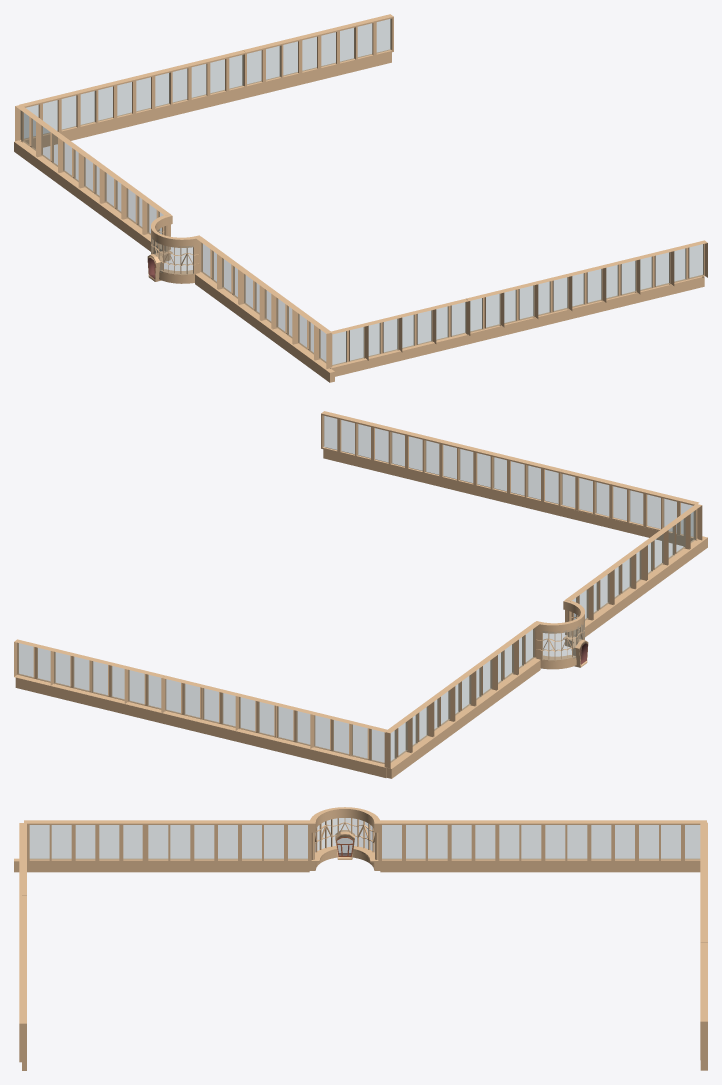
Rendered from Estufa-Paredes.fbx.
The picture shows the model from 3 angles, top to bottom: view 1: azimuth 30°, elevation 25°; view 2: azimuth 150°, elevation 25°; view 3: azimuth 270°, elevation 25°; orthographic projection. The views are drawn at different scales.
Visible parts, largest first — view 1: Plane.002; view 2: Plane.002; view 3: Plane.002.
Part boxes in pixels (x1,y1,x2,y2): Plane.002: (14,14,707,382); Plane.002: (14,411,707,778); Plane.002: (14,807,707,1070).
Bounding box in the file's own units: 59.94 × 6.51 × 80.57.
